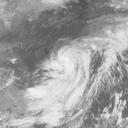cyclone: (42, 44, 96, 92)
